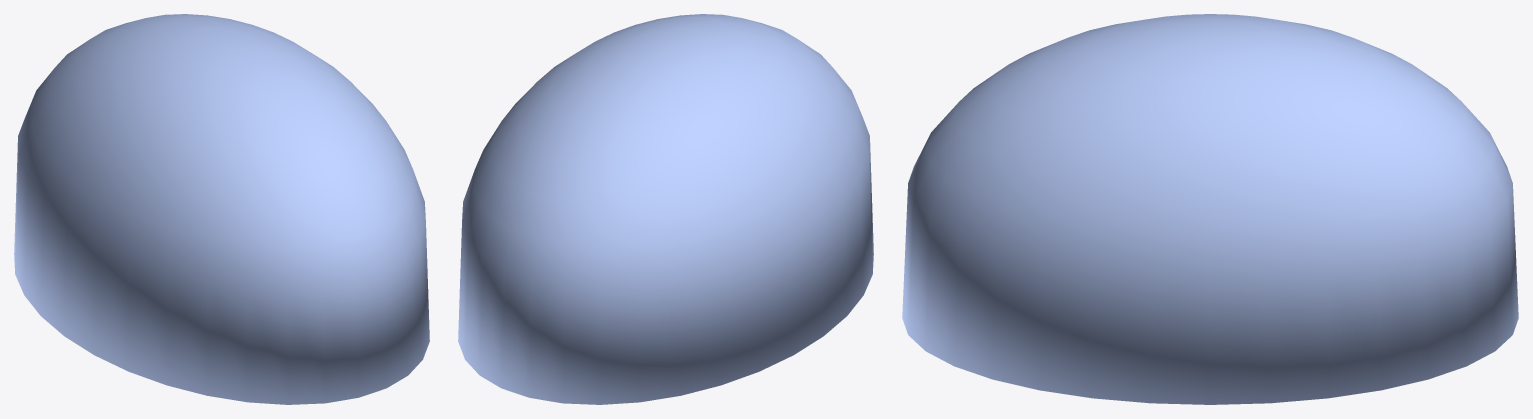
File: Glass.fbx
The picture shows the model from 3 angles, left to right: view 1: azimuth 30°, elevation 25°; view 2: azimuth 150°, elevation 25°; view 3: azimuth 270°, elevation 25°; orthographic projection. The views are drawn at different scales.
Parts seen in each view (by area): view 1: Glass; view 2: Glass; view 3: Glass.
Boxes of the visible parts, x1,y1,x2,y2 form: Glass: [14, 14, 429, 404]; Glass: [458, 14, 873, 404]; Glass: [902, 14, 1518, 404].
Bounding box in the file's own units: 4160 × 3186 × 6240.
